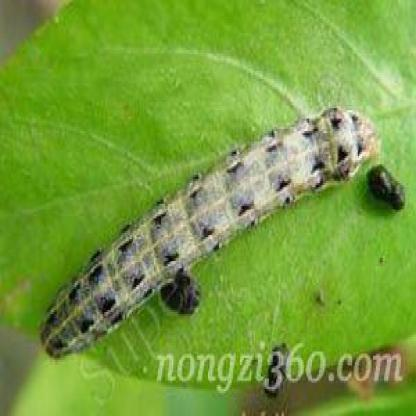armyworm: (9, 72, 397, 394)
